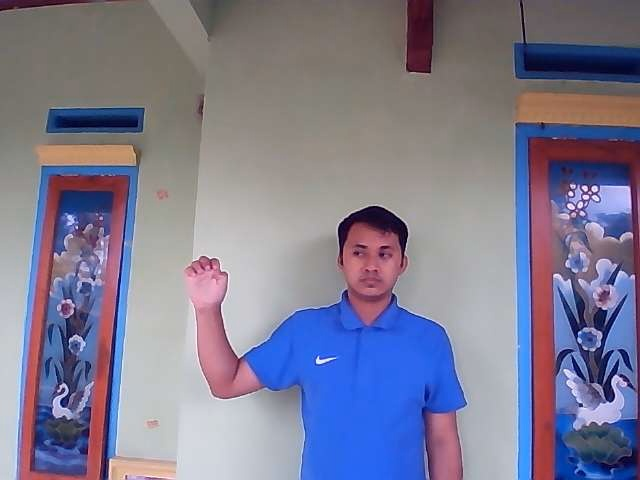E: (184, 255, 228, 310)
